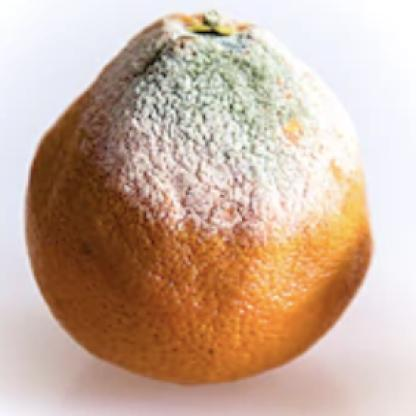rotten: (23, 11, 377, 389)
